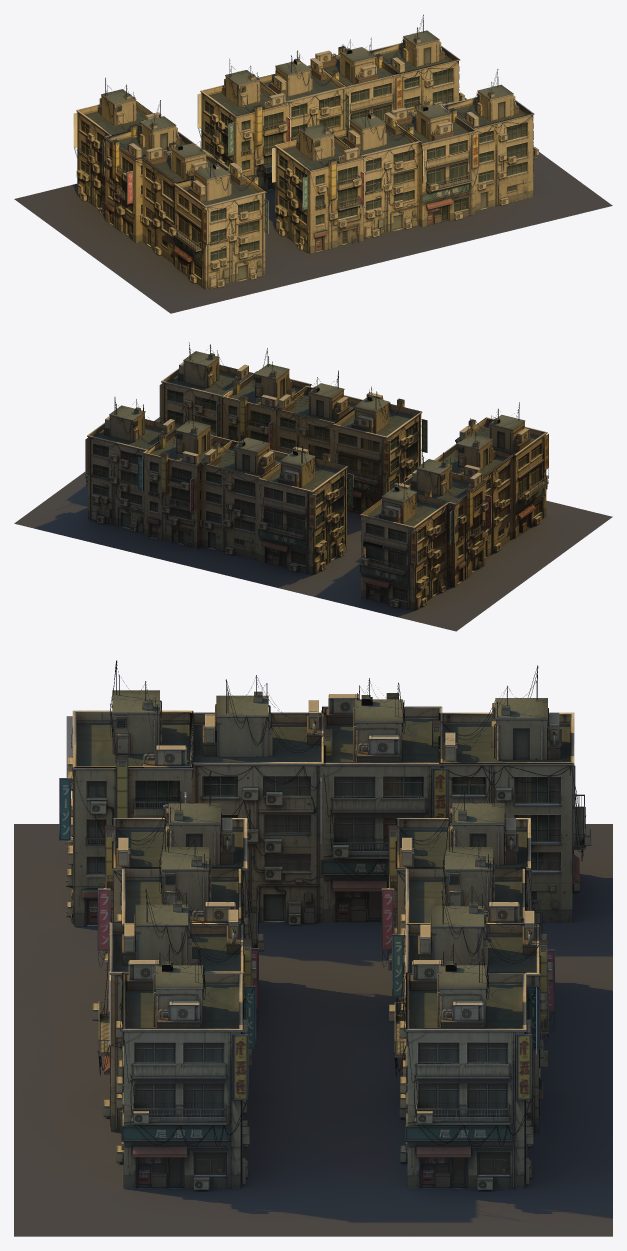
The model's file is city1.glb.
3 views of the same model, one above another, from view 1: azimuth 30°, elevation 25°; view 2: azimuth 150°, elevation 25°; view 3: azimuth 270°, elevation 25° (orthographic). The views are drawn at different scales.
Visible parts, largest first — view 1: Cube.023_Building_1_0, Cube.029_Building_3_0, Plane_Terrain_0, Cube.001_Building_2_0, Cube.002_Glass_0, Cube.019_Cables Material_0; view 2: Cube.001_Building_2_0, Cube.029_Building_3_0, Plane_Terrain_0, Cube.023_Building_1_0, Cube.002_Glass_0, Cube.019_Cables Material_0; view 3: Plane_Terrain_0, Cube.029_Building_3_0, Cube.001_Building_2_0, Cube.023_Building_1_0, Cube.002_Glass_0, Cube.019_Cables Material_0.
Boxes of the visible parts, <box> form: Cube.023_Building_1_0: <box>272,69,538,254</box>; Cube.029_Building_3_0: <box>73,77,268,289</box>; Plane_Terrain_0: <box>14,98,612,313</box>; Cube.001_Building_2_0: <box>197,14,464,191</box>; Cube.002_Glass_0: <box>81,68,526,277</box>; Cube.019_Cables Material_0: <box>74,15,534,261</box>; Cube.001_Building_2_0: <box>85,397,353,574</box>; Cube.029_Building_3_0: <box>359,402,548,610</box>; Plane_Terrain_0: <box>14,417,612,631</box>; Cube.023_Building_1_0: <box>159,342,427,513</box>; Cube.002_Glass_0: <box>94,390,540,601</box>; Cube.019_Cables Material_0: <box>85,343,548,585</box>; Plane_Terrain_0: <box>14,824,612,1236</box>; Cube.029_Building_3_0: <box>59,660,591,926</box>; Cube.001_Building_2_0: <box>381,770,554,1190</box>; Cube.023_Building_1_0: <box>92,770,264,1190</box>; Cube.002_Glass_0: <box>87,776,559,1183</box>; Cube.019_Cables Material_0: <box>71,661,585,1146</box>.
Size of the model in its own units: 20.17 by 5.15 by 12.38.
6 materials, 6 textured.
